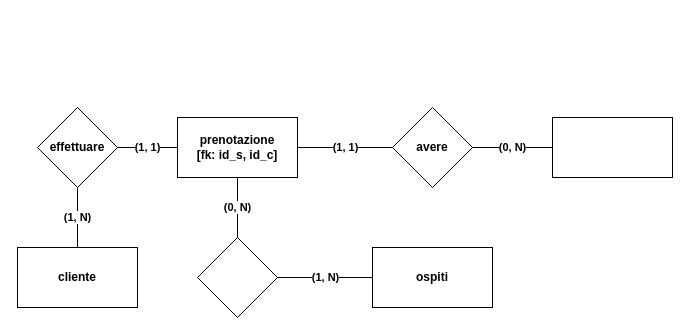
Some shapes in this 690 by 335 pixel diagram are drawn without their labels. The shapes that lost their labels are listed below. From the top down, each one's centre as x and y in pixels, then its label:
pixel 612 147: stanza
pixel 237 277: comprendere
